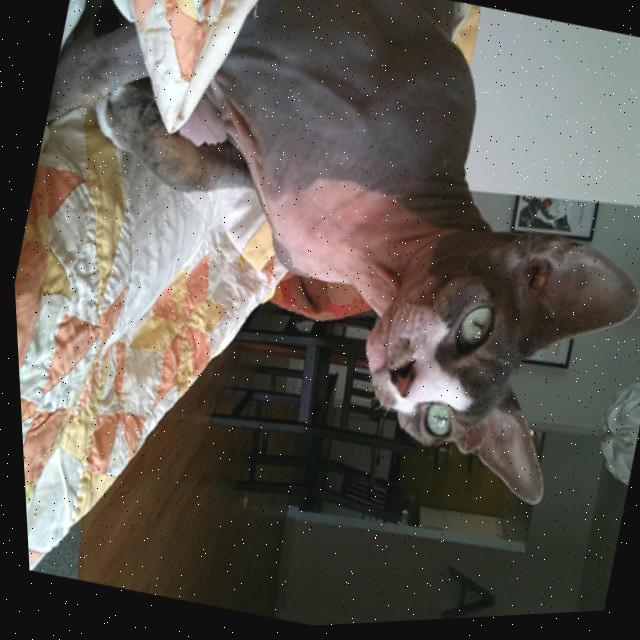Sphynx: (0, 0, 640, 554)
